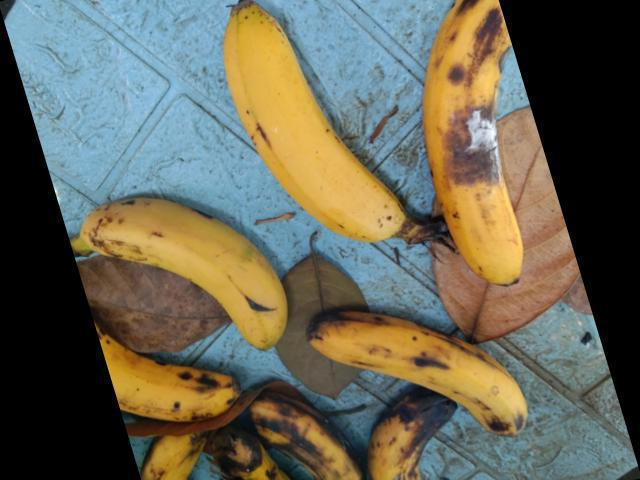freshripe: (212, 10, 423, 250)
ripe: (59, 173, 287, 355), (297, 296, 552, 444)
rotten: (75, 333, 243, 437), (254, 380, 365, 479), (374, 396, 456, 479)
